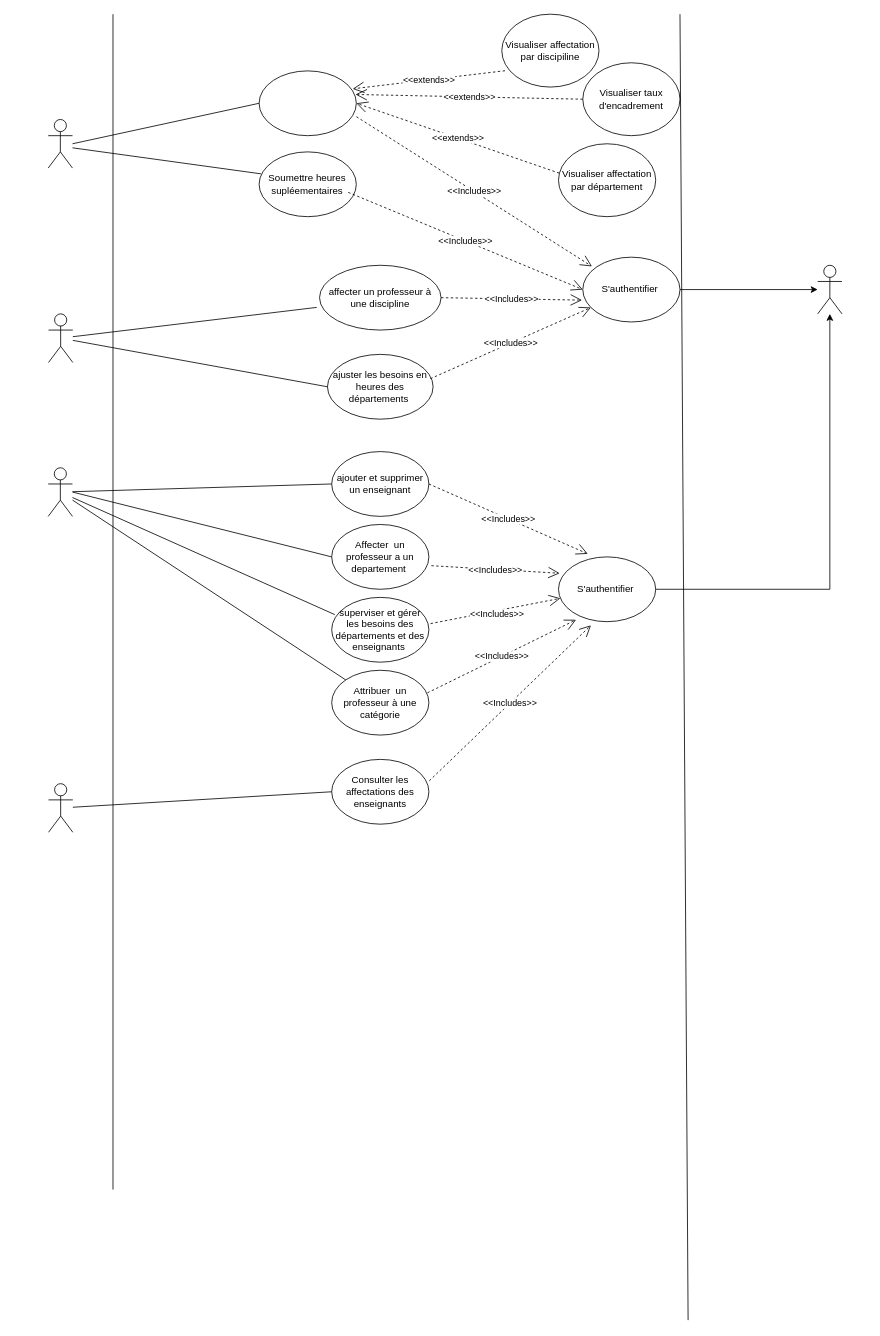
Image size: 880x1336. Some labels were removed from this diagram. The box of each missing label's shape, as (x1, y1, x2, y2) in pixels:
Base de donnés: (817, 264, 842, 314)
Chef de Département: (48, 313, 73, 362)
Directeur: (47, 467, 72, 516)
Enseignant: (47, 119, 72, 168)
Secrétaire: (48, 783, 73, 832)
Visualisation: (258, 70, 356, 136)
